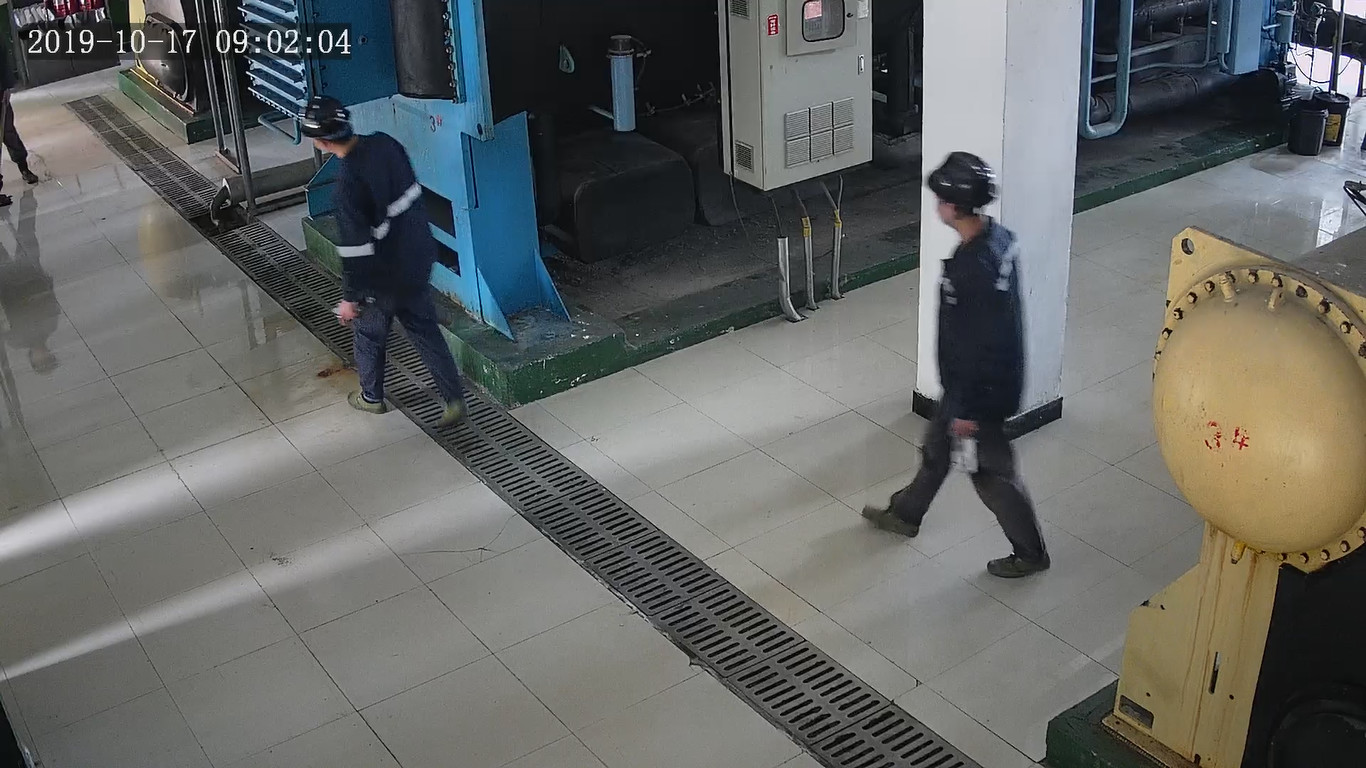helmet: (927, 149, 997, 208), (300, 93, 351, 138)
